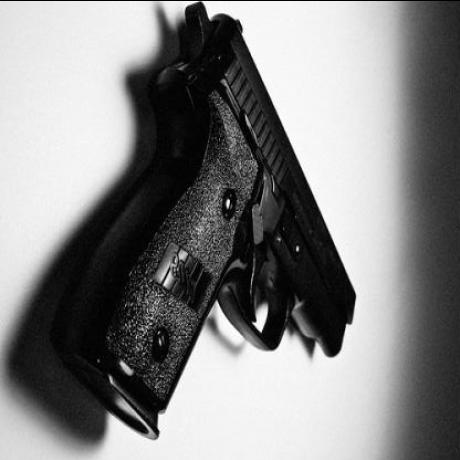weapon: (58, 0, 366, 446)
